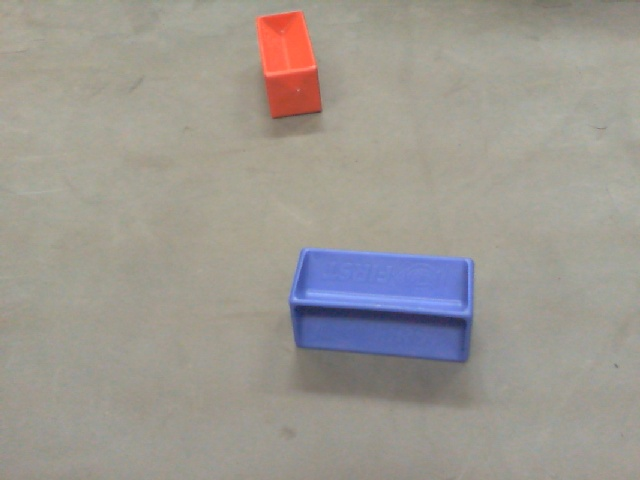BlueSample: (282, 240, 485, 370)
RedSample: (254, 8, 327, 125)
